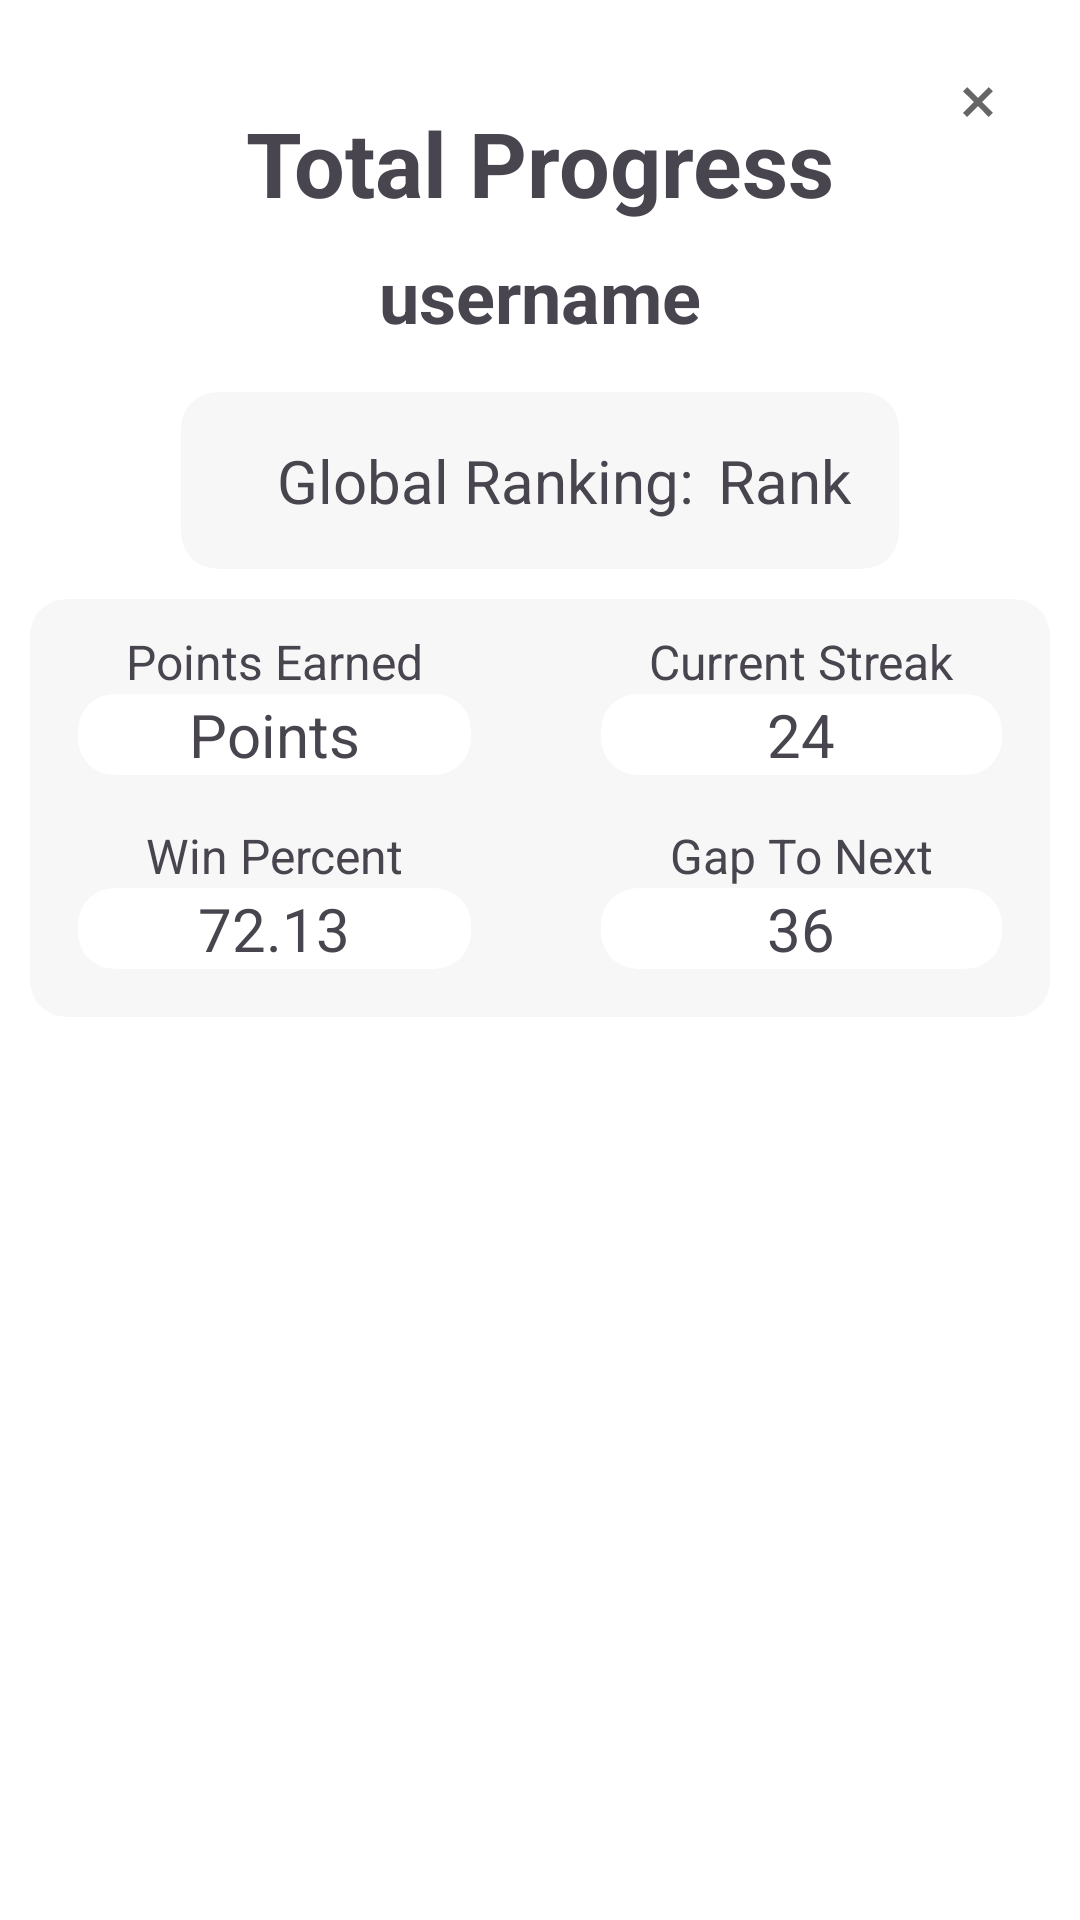

Icons on this 1080 x 1920 Android screen, each with the point to tap as (x,y):
close: (978,102)
